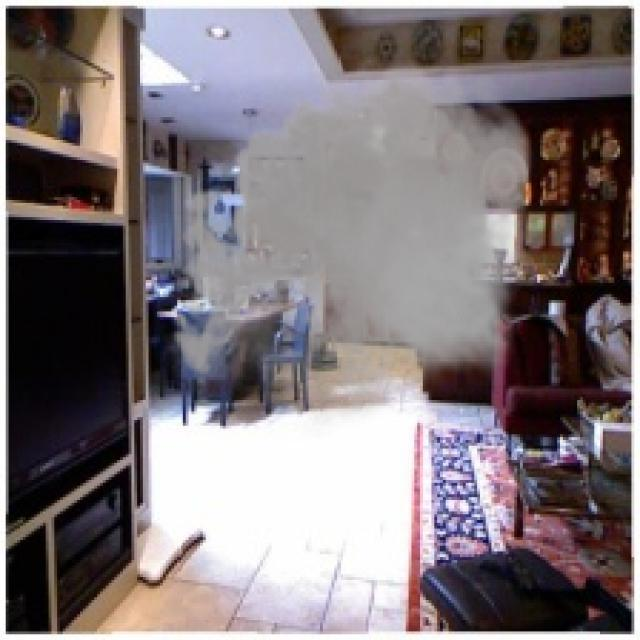Smoke: (160, 49, 546, 438)
